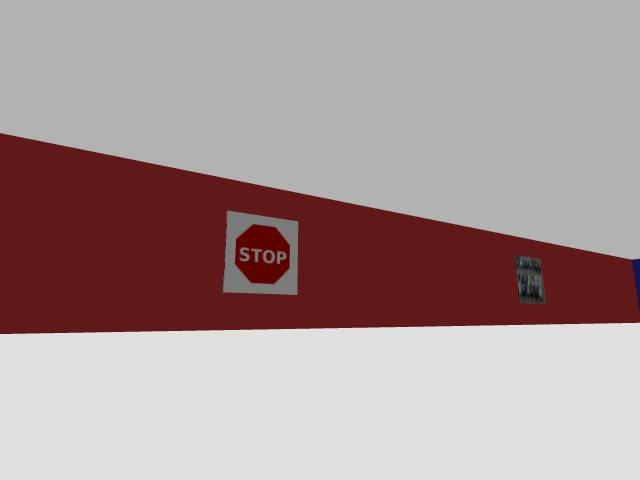stopsign: (224, 211, 297, 293)
